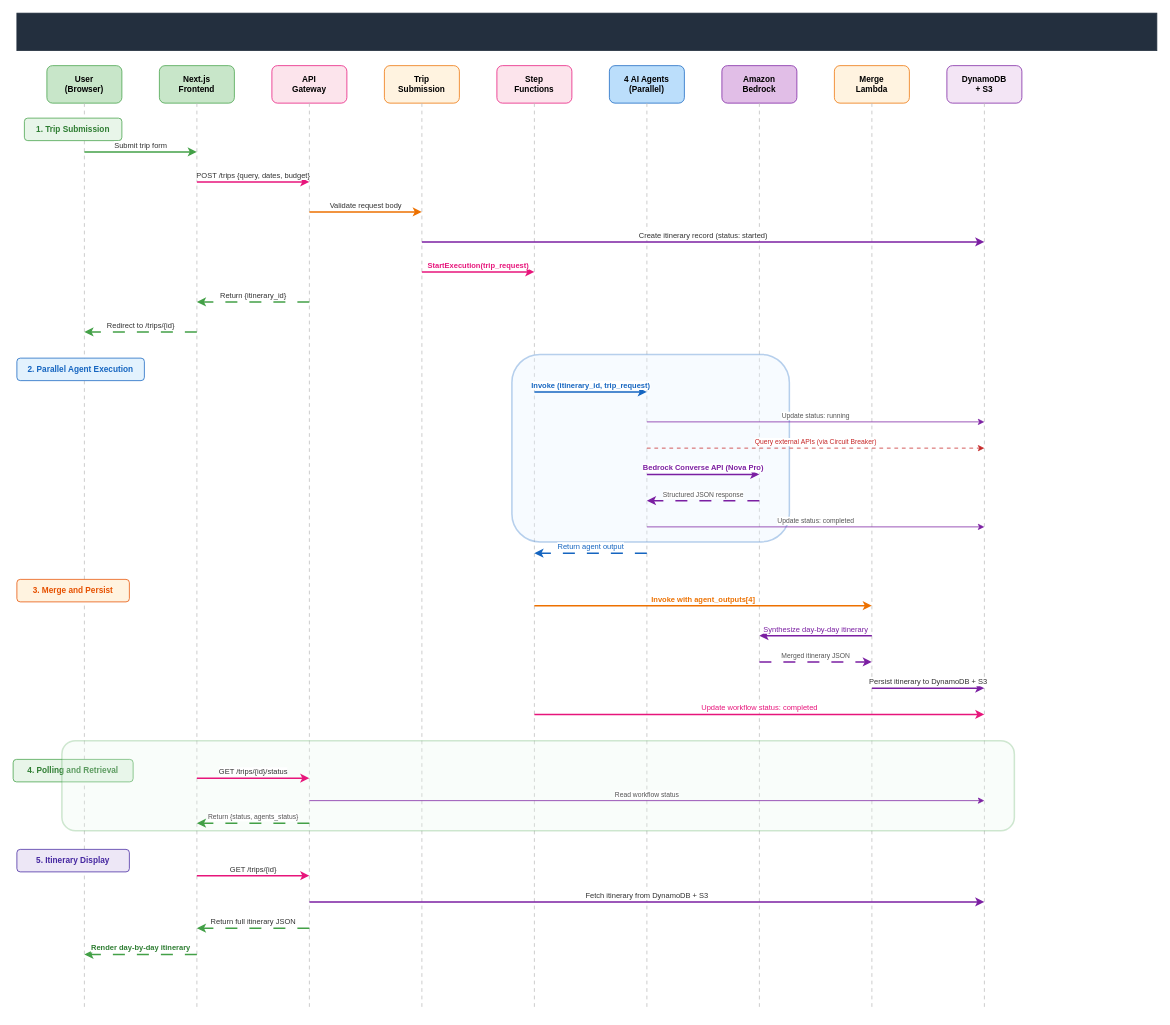
The diagram is 1170 pixels wide and 1025 high, and some of its shapes have lost their labels. The centre of each missing label's shape, as x and y in pixels:
"AI Travel Concierge — Request Lifecycle Sequence" belongs at (x=586, y=31).
"loop [every 4 seconds until completed]" belongs at (x=538, y=785).
"par [4 agents concurrent]" belongs at (x=650, y=447).
